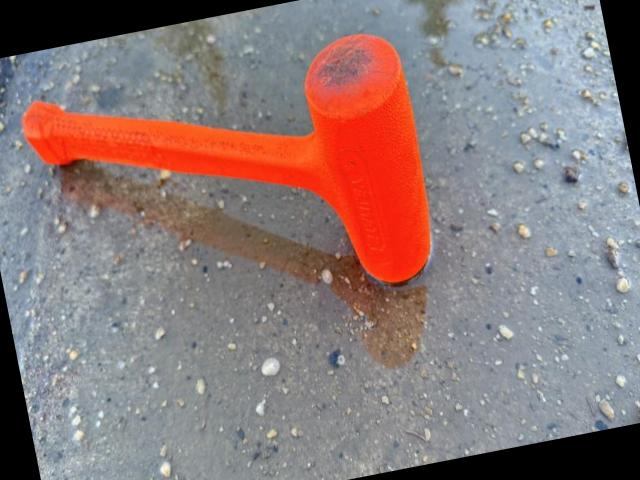hammer: (18, 27, 444, 347)
